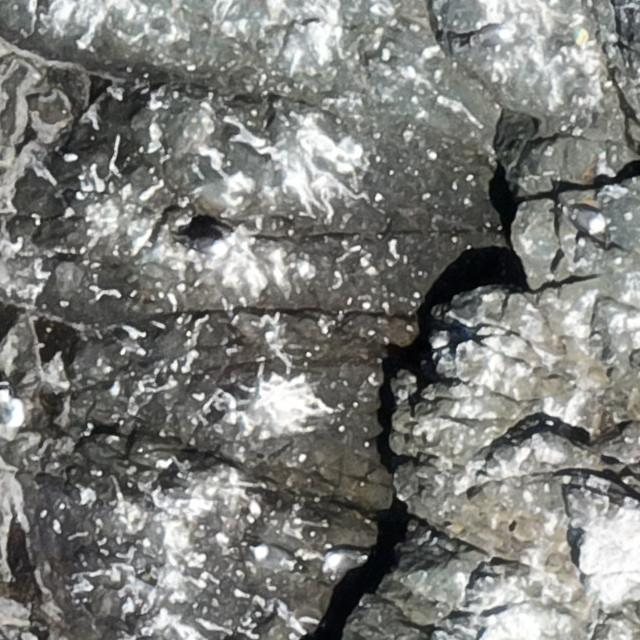umineko: (249, 544, 298, 570), (566, 206, 608, 233), (324, 554, 367, 574), (190, 236, 228, 256)
